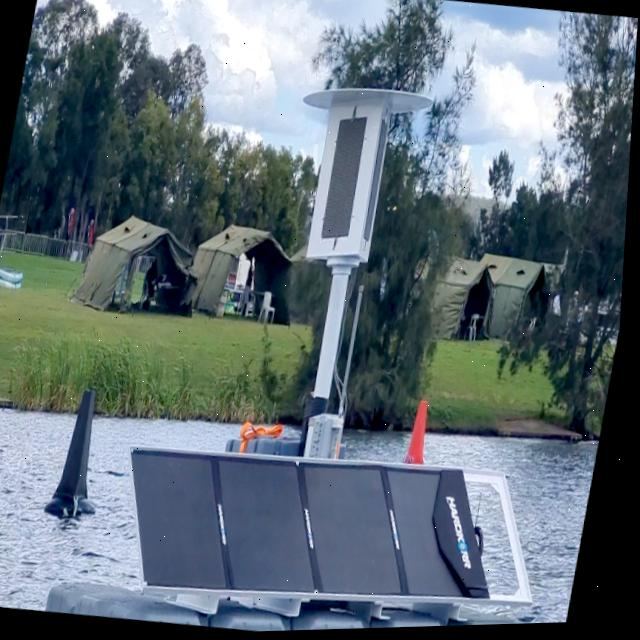led: (313, 108, 381, 253)
